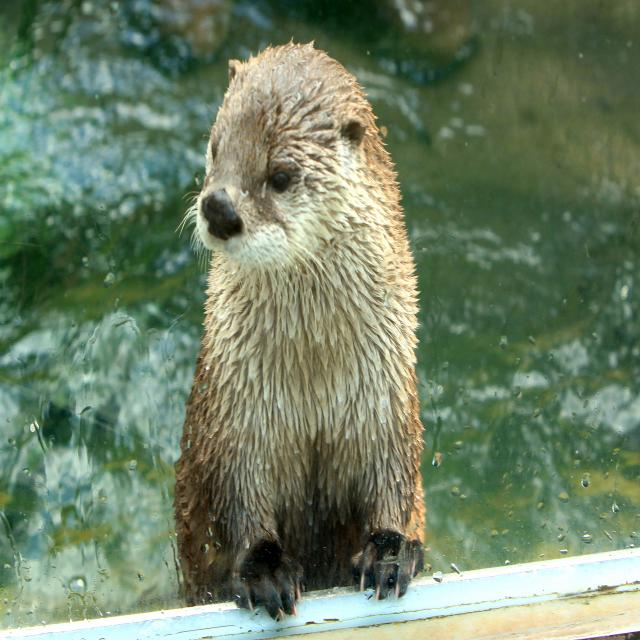otter: (176, 46, 426, 620)
